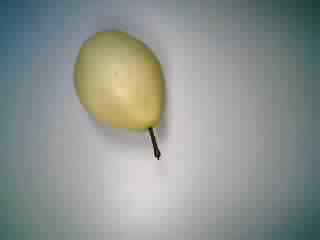pear: (67, 25, 179, 169)
